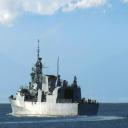Fragata: (10, 39, 101, 118)
